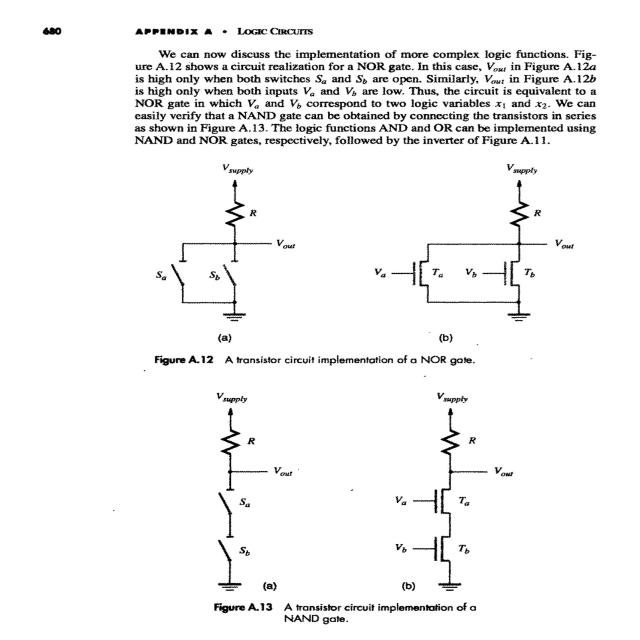diagram: (132, 158, 637, 640)
